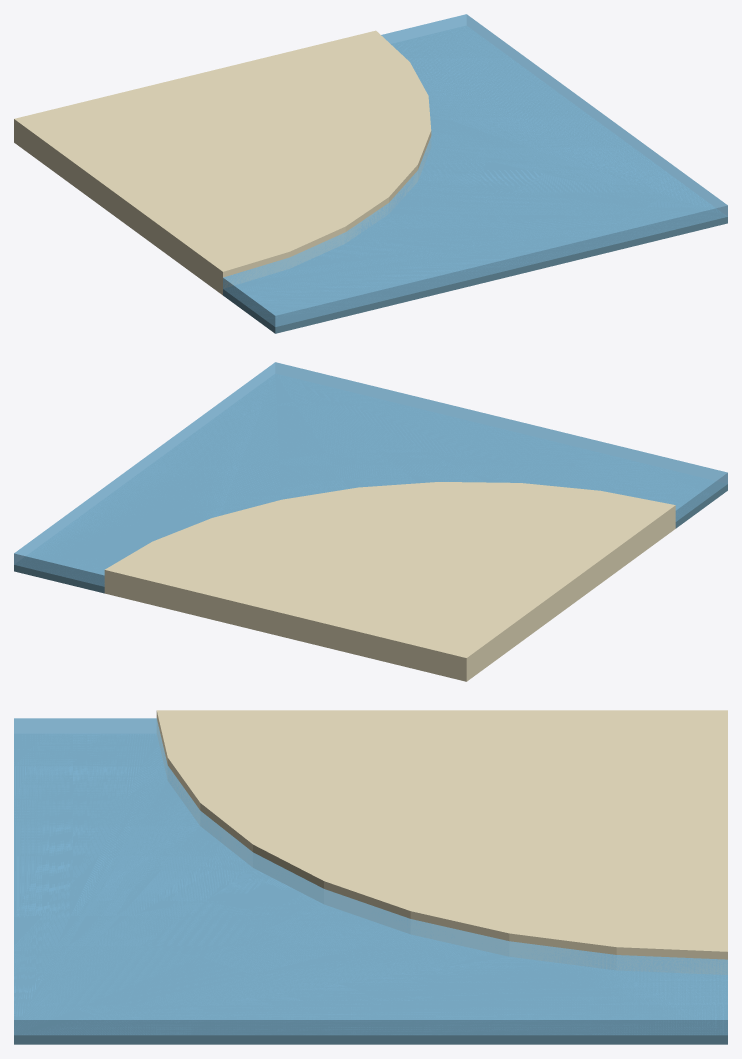
Rendered from pond_corner_in.glb.
The picture shows the model from 3 angles, top to bottom: view 1: azimuth 30°, elevation 25°; view 2: azimuth 150°, elevation 25°; view 3: azimuth 270°, elevation 25°; orthographic projection. The views are drawn at different scales.
Visible parts, largest first — view 1: water, land; view 2: land, water; view 3: water, land.
Part boxes in pixels (x1,y1,x2,y2): water: [223, 14, 727, 333]; land: [14, 30, 431, 295]; land: [104, 482, 675, 681]; water: [14, 362, 727, 593]; water: [14, 718, 727, 1044]; land: [156, 710, 727, 974].
Size of the model in its own units: 1 by 0.05 by 1.
